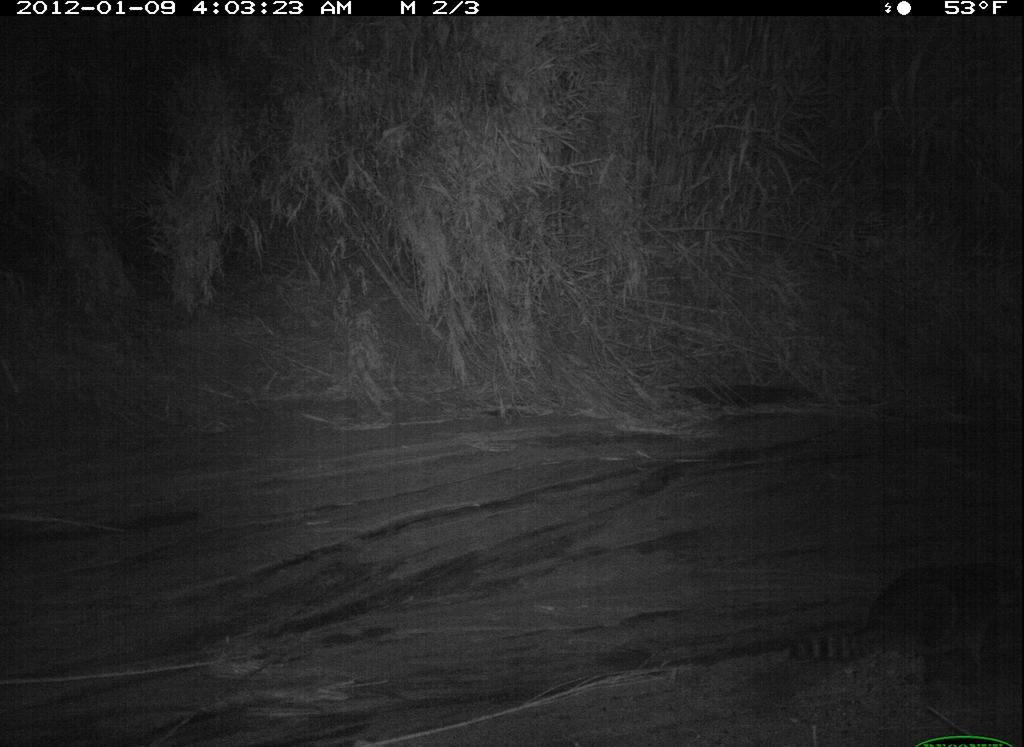raccoon: (777, 547, 1023, 679)
